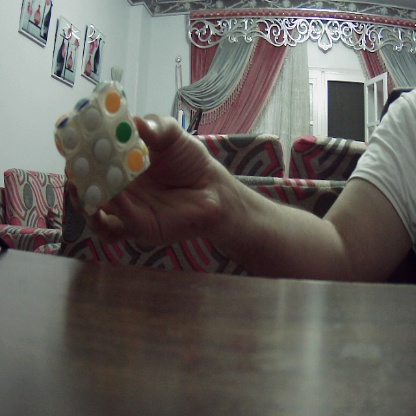Rubix Cube: (53, 79, 151, 217)
